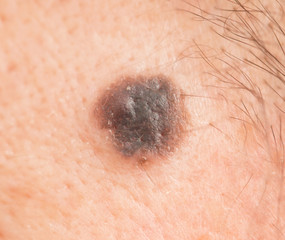melanoma: (89, 65, 209, 169)
